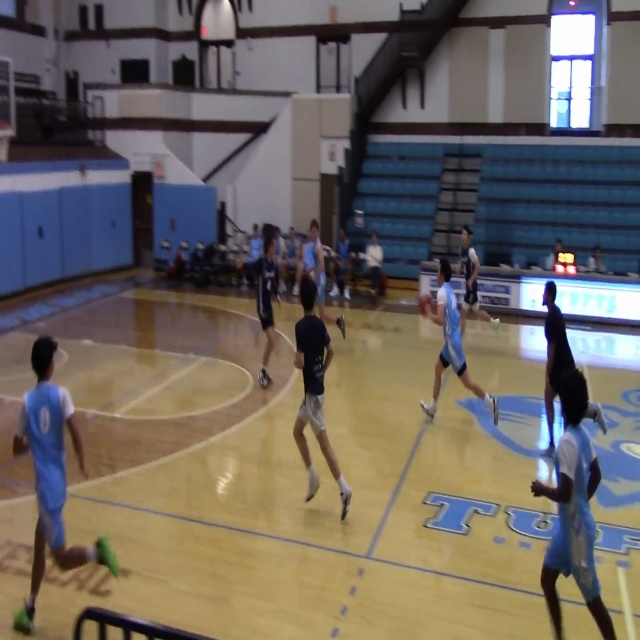Basketball: (535, 457, 557, 489), (419, 294, 431, 315)
